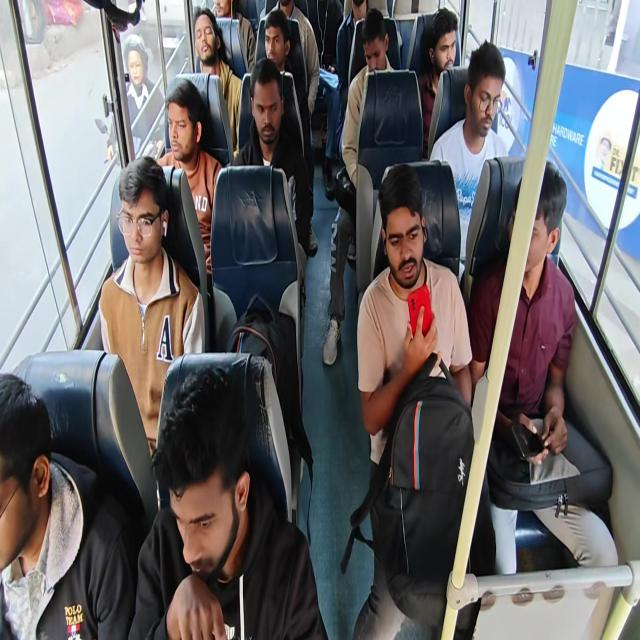person: (160, 343, 297, 640), (0, 375, 65, 640), (112, 165, 198, 301), (494, 157, 566, 296), (377, 180, 436, 287), (164, 80, 211, 176), (460, 39, 511, 123), (245, 74, 291, 157), (186, 19, 232, 89), (264, 18, 302, 92), (309, 0, 343, 79), (346, 23, 392, 72), (438, 7, 472, 69), (211, 0, 249, 52), (339, 0, 380, 41), (274, 0, 304, 32)
